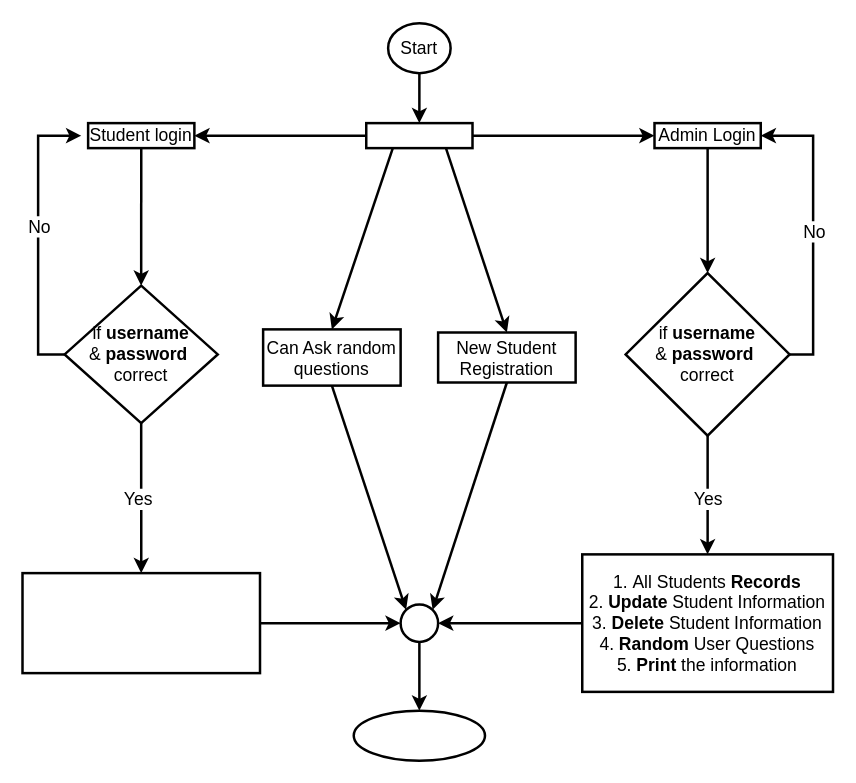
This 856x783 diagram has some shape labels left out. The centre of each missing label's shape, as x and y in pixels:
1. See All His Records 2. Update His Information: pixel 141 622
End: pixel 419 735
Home page: pixel 418 135
